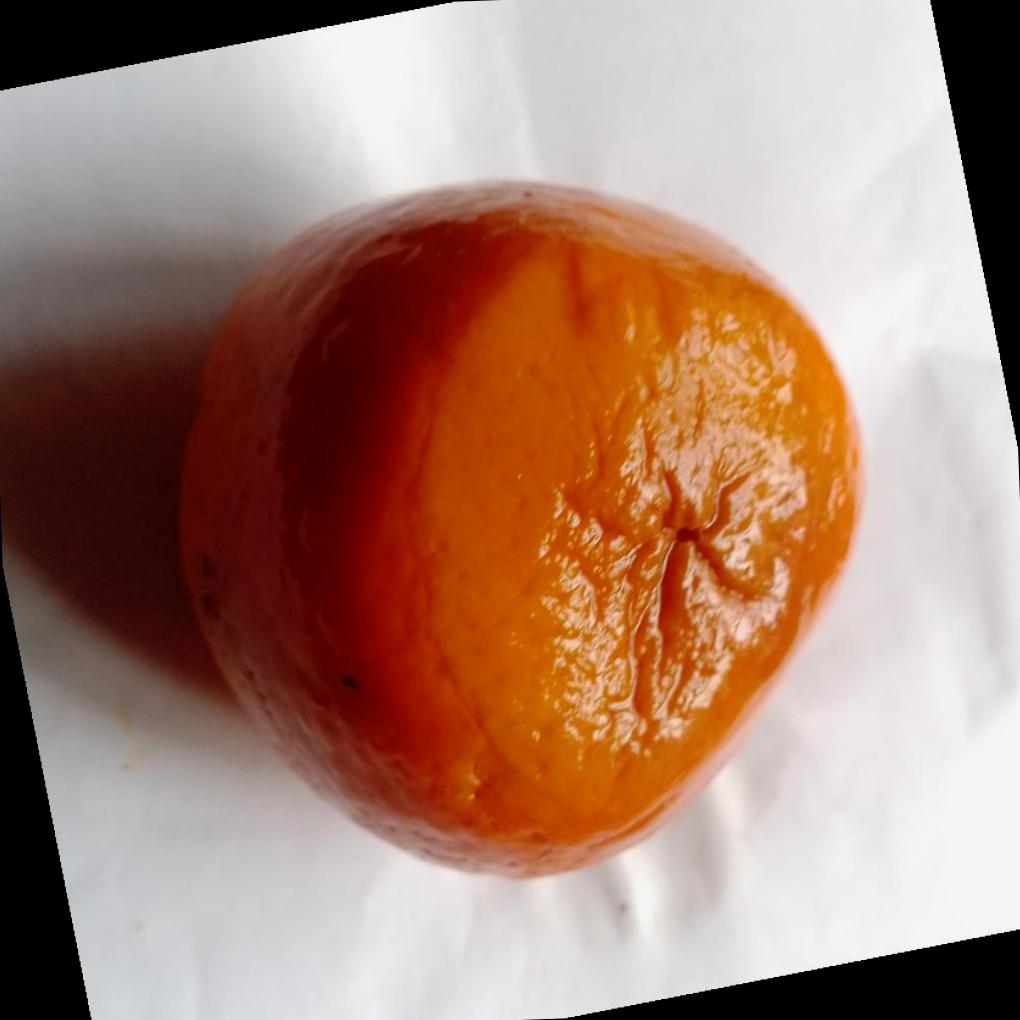FreshOrange: (171, 179, 861, 880)
